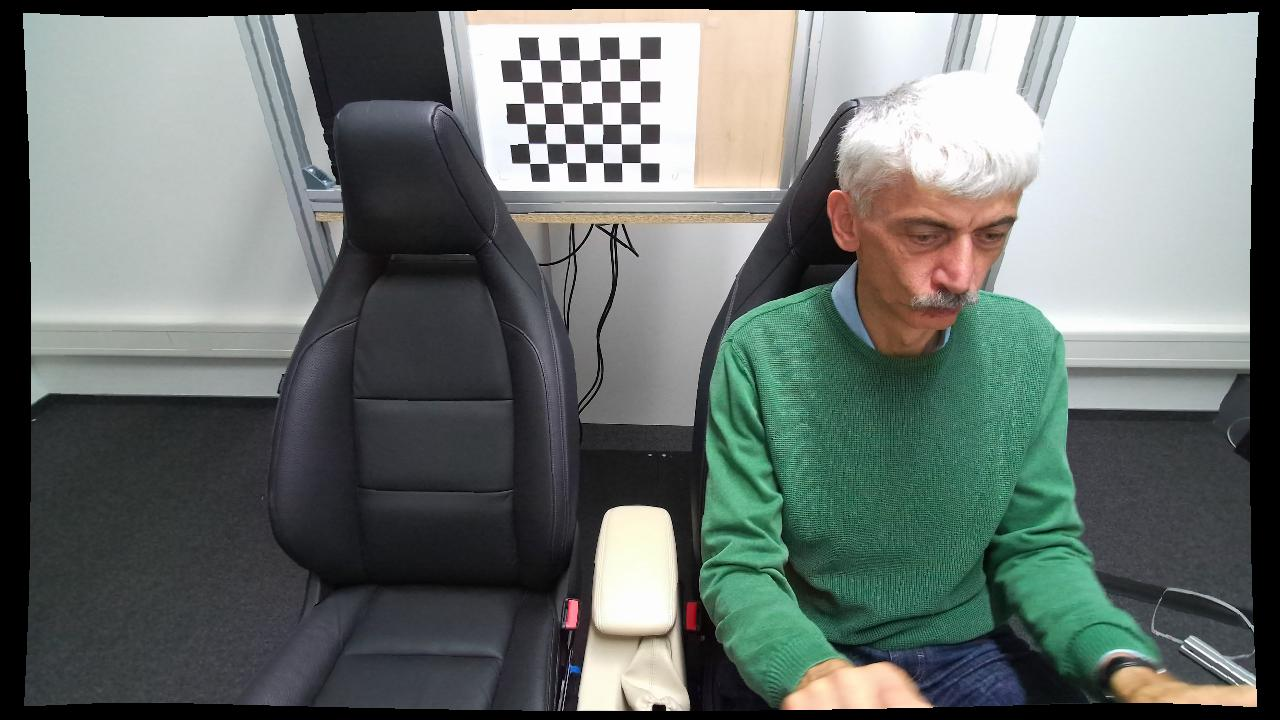SafeDriving: (701, 66, 1148, 714)
